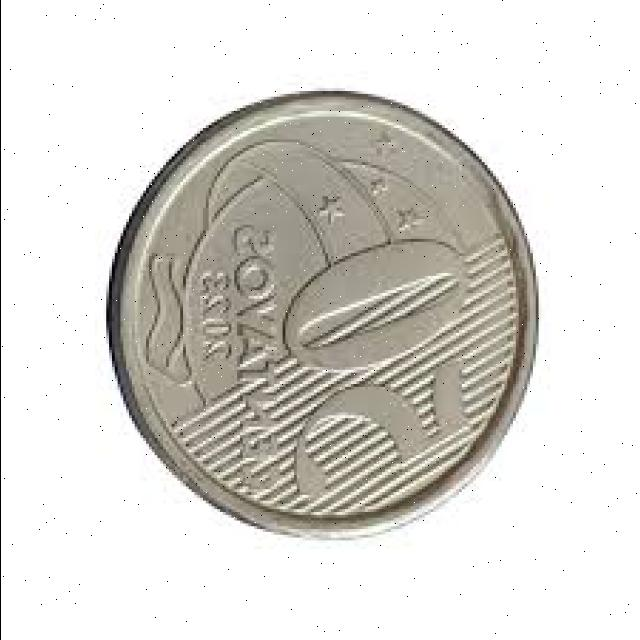50 cent: (104, 91, 544, 539)
